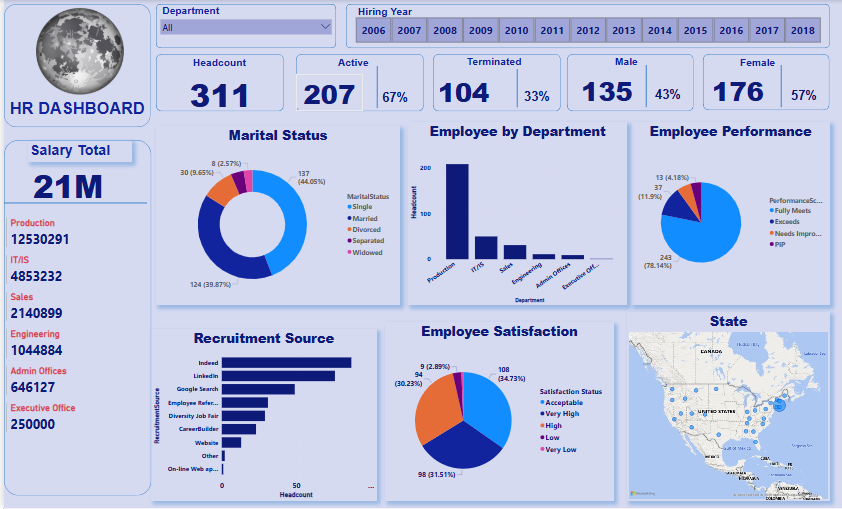

This screenshot's page, from the dashboard's own definition file:
{"tool":"powerbi","page":{"name":"Page 1","canvas":[1880,1220],"ordinal":0},"visuals":[{"type":"shape","box":[10.2,0,359,271.3],"z":0},{"type":"slicer","fields":{"Values":["Table1.Department"]},"box":[387.6,0,518.2,65.3],"z":1000},{"type":"slicer","fields":{"Values":["Table1.Hiring Year"]},"box":[905.8,0,960.8,65.3],"z":2000},{"type":"card","fields":{"Values":["Measure Table.Headcount"]},"box":[410,95.9,236.6,126.5],"z":3000},{"type":"card","fields":{"Values":["Measure Table.Active"]},"box":[677.3,102,228.5,124.4],"z":4000},{"type":"card","fields":{"Values":["Measure Table.Active%"]},"box":[860.9,132.6,79.6,53],"z":5000},{"type":"card","fields":{"Values":["Measure Table.Terminated"]},"box":[995.5,97.9,224.4,124.4],"z":6000},{"type":"card","fields":{"Values":["Measure Table.Terminated%"]},"box":[1162.8,136.7,75.5,65.3],"z":7000},{"type":"card","fields":{"Values":["Measure Table.Male"]},"box":[1287.2,108.1,234.6,112.2],"z":8000},{"type":"card","fields":{"Values":["Measure Table.Male%"]},"box":[1460.6,148.9,75.5,53],"z":9000},{"type":"card","fields":{"Values":["Measure Table.Female"]},"box":[1579,112.2,230.5,114.2],"z":10000},{"type":"card","fields":{"Values":["Measure Table.Female%"]},"box":[1756.4,136.7,71.4,77.5],"z":11000},{"type":"donutChart","fields":{"Y":["Measure Table.Headcount"],"Category":["Table1.MaritalStatus"]},"box":[385.6,253,475.3,359],"z":12000},{"type":"columnChart","fields":{"Y":["Measure Table.Headcount"],"Category":["Table1.Department"]},"box":[860.9,271.3,501.8,340.7],"z":13000},{"type":"pieChart","fields":{"Y":["Measure Table.Headcount"],"Category":["Table1.PerformanceScore"]},"box":[1405.6,281.5,475.3,330.5],"z":14000},{"type":"barChart","fields":{"Y":["Measure Table.Headcount"],"Category":["Table1.RecruitmentSource"]},"box":[387.6,626.3,473.3,363.1],"z":15000},{"type":"pieChart","fields":{"Y":["Measure Table.Headcount"],"Category":["Table1.Satisfaction Status"]},"box":[885.4,626.3,501.8,363.1],"z":16000},{"type":"map","fields":{"Size":["Measure Table.Headcount"],"Category":["Table1.State"]},"box":[1405.6,626.3,475.3,363.1],"z":17000},{"type":"card","fields":{"Values":["Measure Table.Salary Total"]},"box":[10.2,281.5,359,128.5],"z":18000},{"type":"multiRowCard","fields":{"Values":["Measure Table.Salary Total","Table1.Department"]},"box":[10.2,432.5,359,514.1],"z":19000}]}

Visuals, with their boxes on the page's 1880x1220 design canvas (x1, y1, x2, y2). These are canvas units, not pixel positions in the 842x509 screenshot, which may show the page scaled, cropped or inside an application window:
shape: pyautogui.locateOnScreen(10, 0, 369, 271)
slicer - Table1.Department: pyautogui.locateOnScreen(388, 0, 906, 65)
slicer - Table1.Hiring Year: pyautogui.locateOnScreen(906, 0, 1867, 65)
card - Measure Table.Headcount: pyautogui.locateOnScreen(410, 96, 647, 222)
card - Measure Table.Active: pyautogui.locateOnScreen(677, 102, 906, 226)
card - Measure Table.Active%: pyautogui.locateOnScreen(861, 133, 940, 186)
card - Measure Table.Terminated: pyautogui.locateOnScreen(996, 98, 1220, 222)
card - Measure Table.Terminated%: pyautogui.locateOnScreen(1163, 137, 1238, 202)
card - Measure Table.Male: pyautogui.locateOnScreen(1287, 108, 1522, 220)
card - Measure Table.Male%: pyautogui.locateOnScreen(1461, 149, 1536, 202)
card - Measure Table.Female: pyautogui.locateOnScreen(1579, 112, 1810, 226)
card - Measure Table.Female%: pyautogui.locateOnScreen(1756, 137, 1828, 214)
donutChart - Measure Table.Headcount x Table1.MaritalStatus: pyautogui.locateOnScreen(386, 253, 861, 612)
columnChart - Measure Table.Headcount x Table1.Department: pyautogui.locateOnScreen(861, 271, 1363, 612)
pieChart - Measure Table.Headcount x Table1.PerformanceScore: pyautogui.locateOnScreen(1406, 282, 1881, 612)
barChart - Measure Table.Headcount x Table1.RecruitmentSource: pyautogui.locateOnScreen(388, 626, 861, 989)
pieChart - Measure Table.Headcount x Table1.Satisfaction Status: pyautogui.locateOnScreen(885, 626, 1387, 989)
map - Measure Table.Headcount x Table1.State: pyautogui.locateOnScreen(1406, 626, 1881, 989)
card - Measure Table.Salary Total: pyautogui.locateOnScreen(10, 282, 369, 410)
multiRowCard - Measure Table.Salary Total x Table1.Department: pyautogui.locateOnScreen(10, 432, 369, 947)
